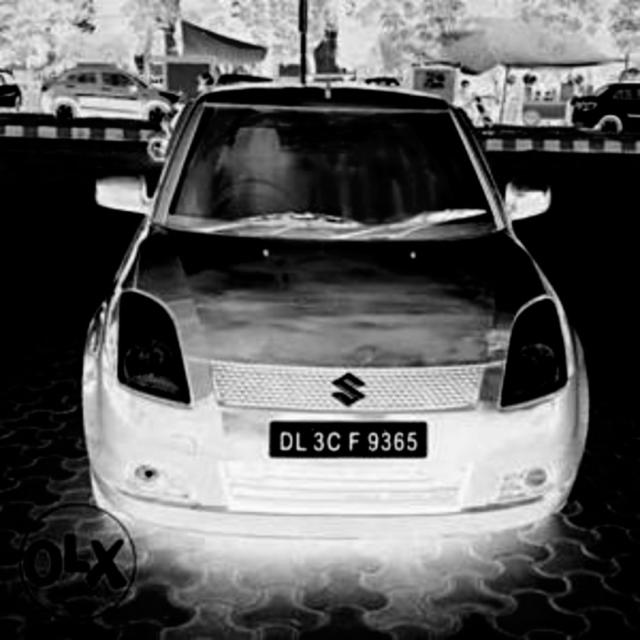Non_registered: (270, 421, 422, 459)
